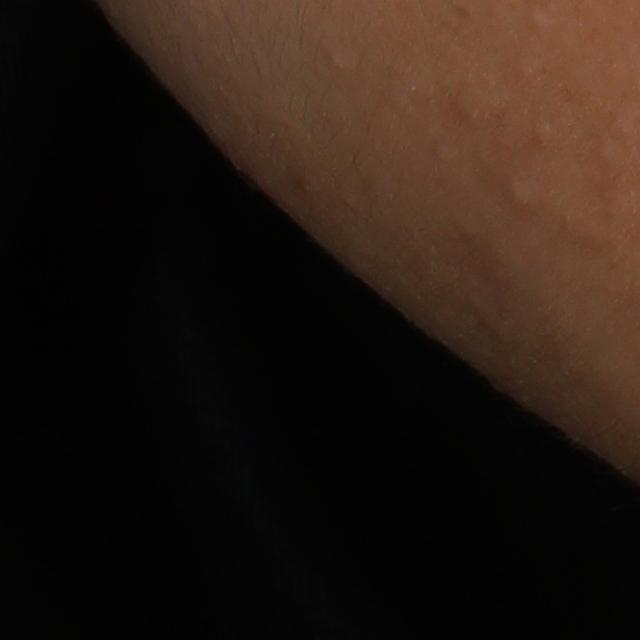comedo: (504, 171, 546, 213), (523, 6, 553, 33)
